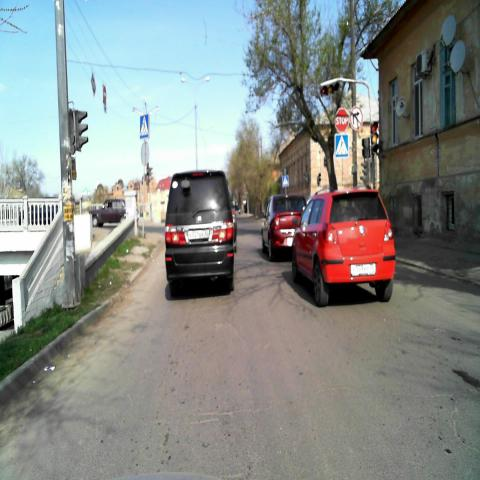3_18: (350, 107, 362, 129)
